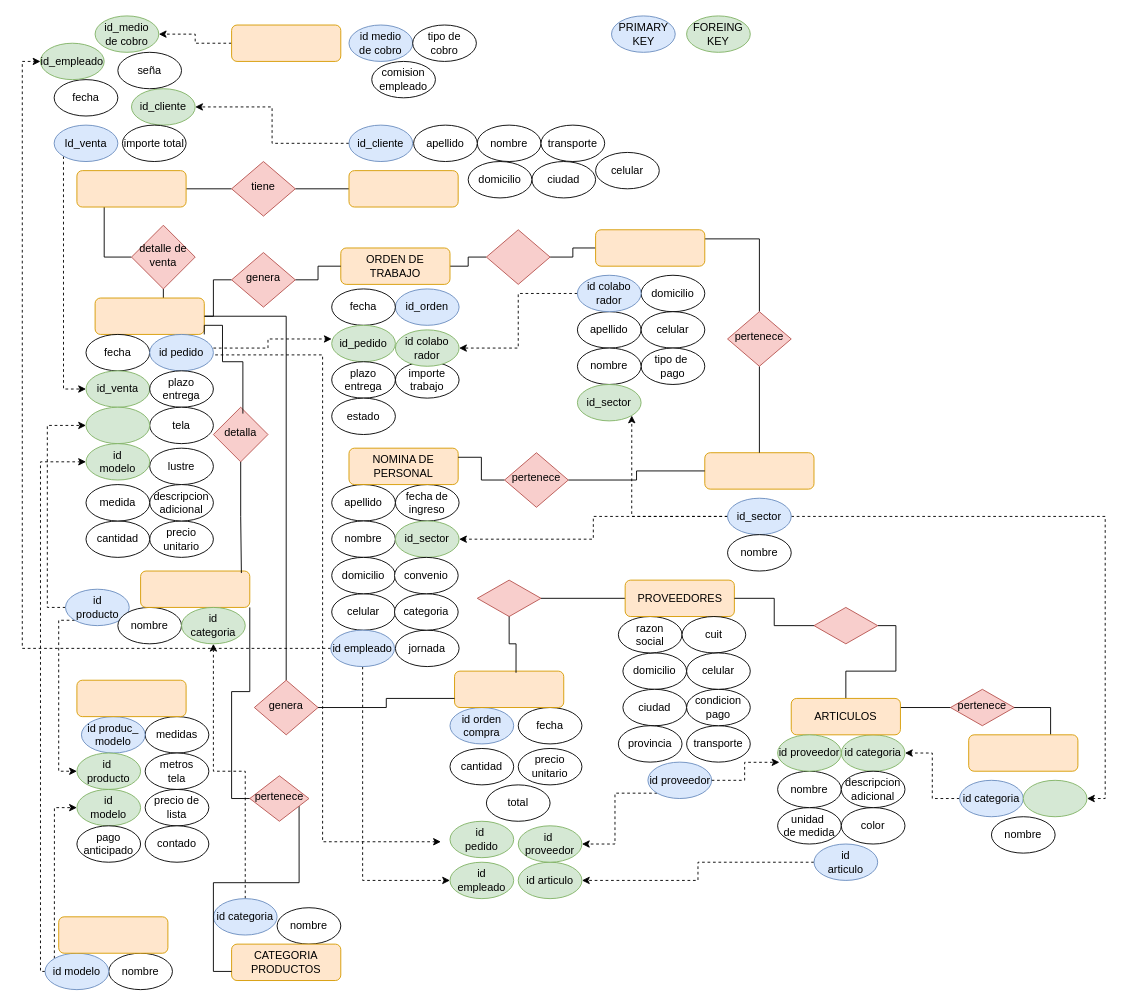
Some shapes in this 1128 by 1006 pixel diagram are drawn without their labels. The shapes that lost their labels are listed below. From the top down, each one's centre as x and y in pixels, then its label:
At (x=286, y=42): "MEDIOS DE COBRO".
At (x=131, y=188): "VENTAS".
At (x=403, y=188): "CLIENTES".
At (x=517, y=256): "contrata".
At (x=650, y=247): "COLABORADORES".
At (x=149, y=315): "NOTA DE PEDIDO".
At (x=117, y=425): "id_producto".
At (x=759, y=470): "SECTOR".
At (x=195, y=588): "PRODUCTOS".
At (x=508, y=598): "se pide".
At (x=845, y=625): "entrega".
At (x=131, y=698): "tabla intermedia producto - modelo".
At (x=509, y=689): "ORDEN DE COMPRA".
At (x=1023, y=752): "CATEGORIA ARTICULOS".
At (x=1054, y=798): "id sector".
At (x=113, y=934): "MODELOS".
